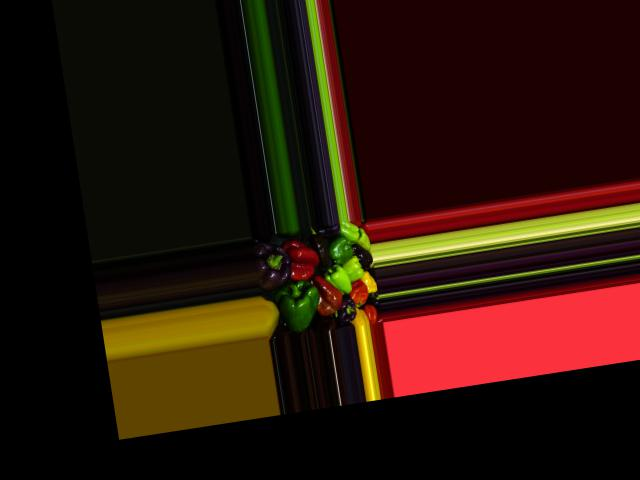bell_pepper: (333, 294, 362, 326)
